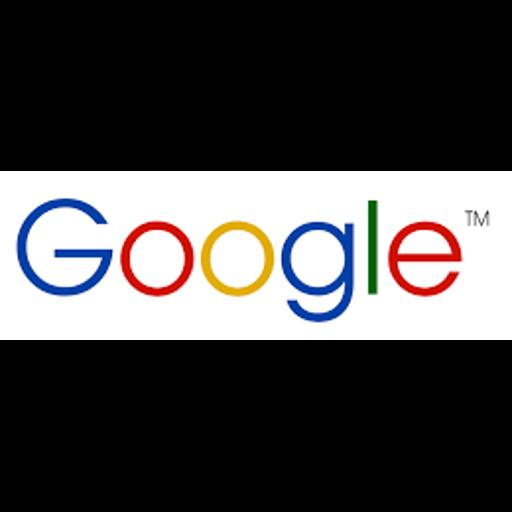Google: (0, 171, 512, 340)
